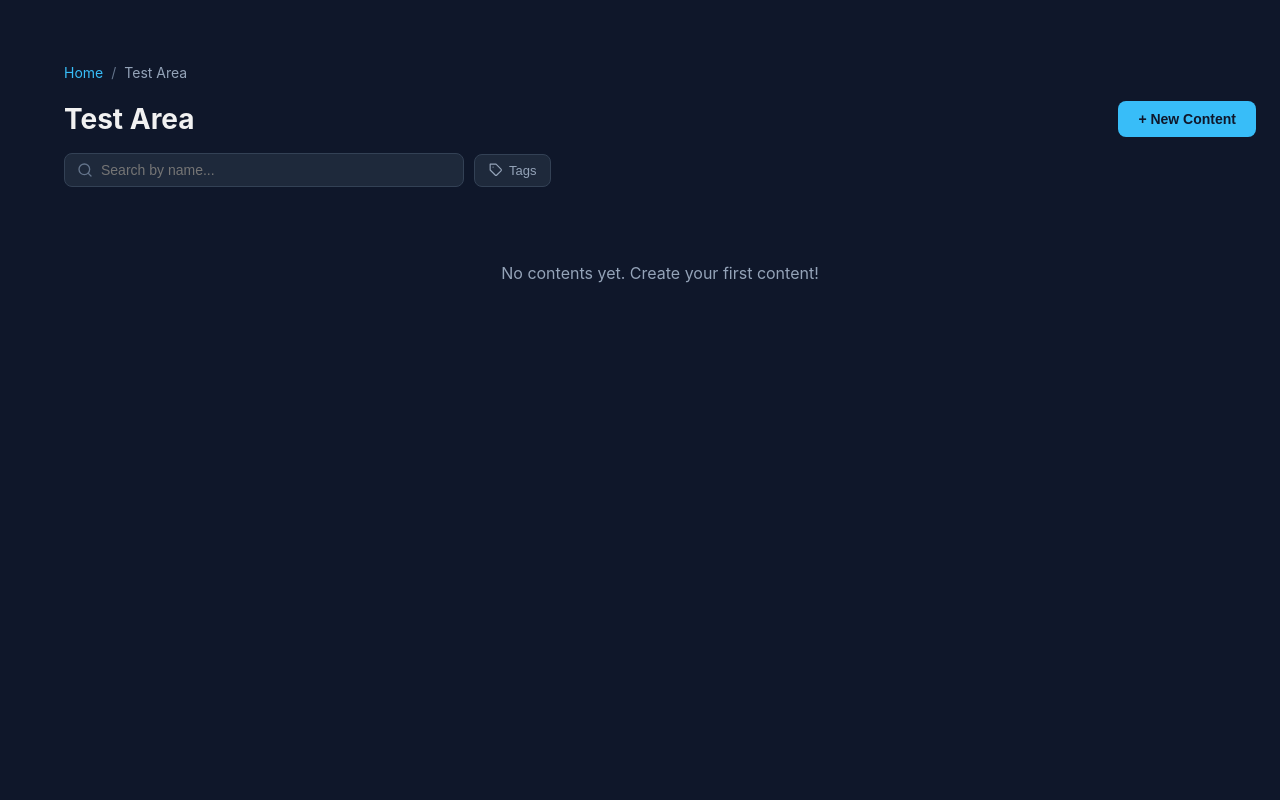
AreaPage › Create Content Modal › should close modal when clicking cancel
What coordinates should you click on to do the following:
click the button "+ New Content"
I would click on:
 (1187, 119)
Its box is 1118,101 -> 1256,137.
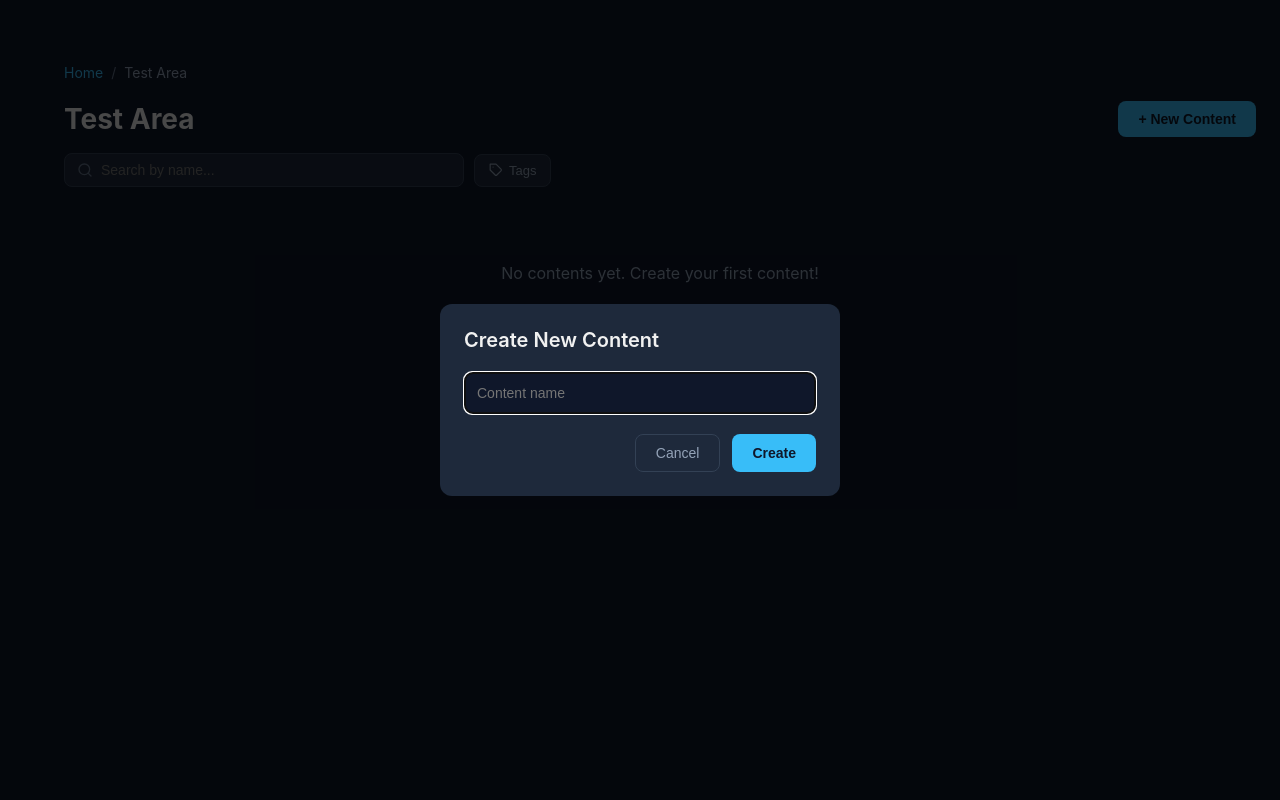
What coordinates should you click on to do the following:
click the button "Cancel"
I would click on:
 (678, 453)
Its box is 635,434 -> 720,472.
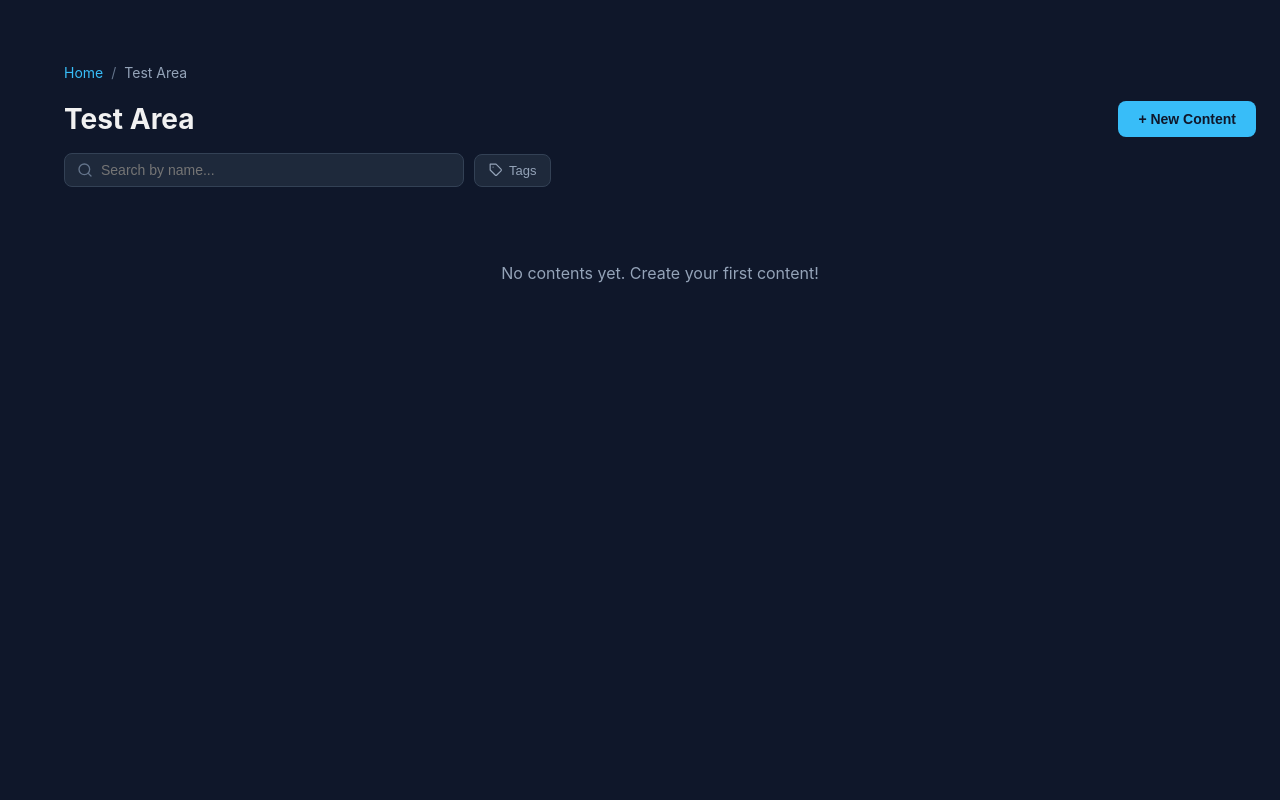
Now the heading "Create New Content" is gone
